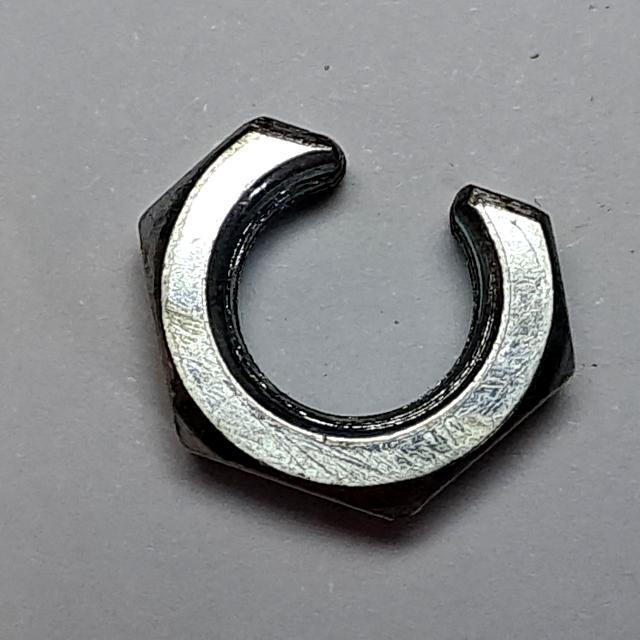Fracture: (122, 105, 591, 541)
